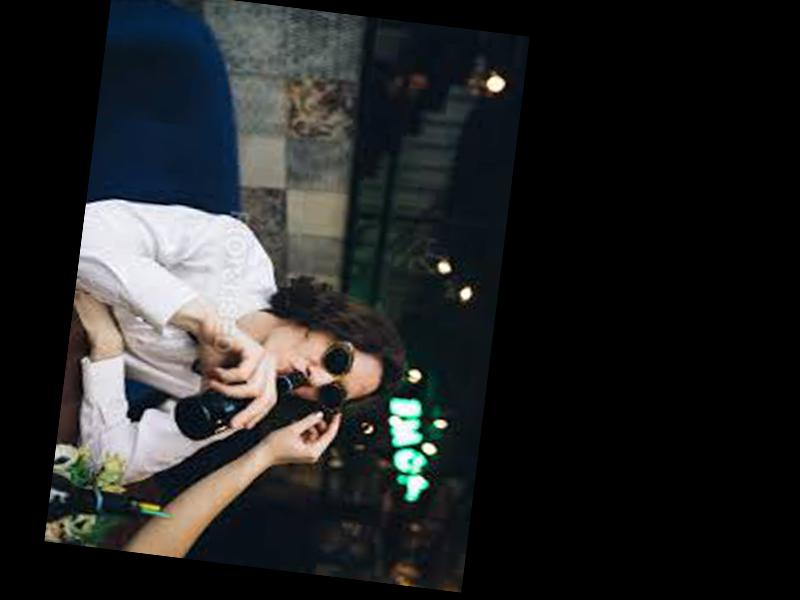Beer: (167, 356, 305, 455)
